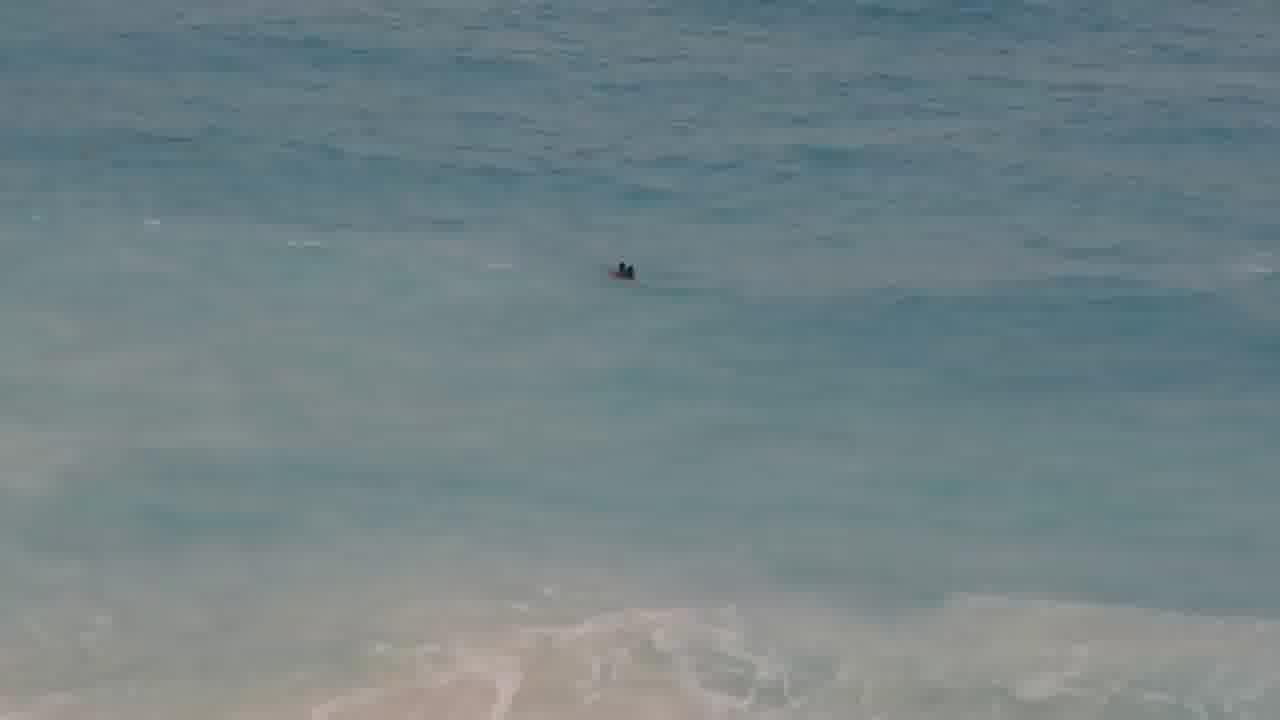swimmer: (619, 251, 646, 289), (600, 253, 627, 282)
